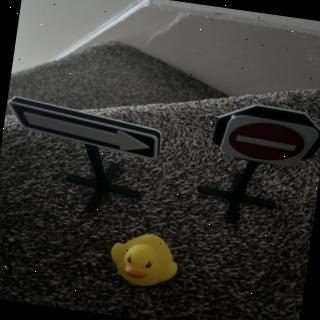duck_regular: (107, 230, 183, 294)
sign_noentry: (210, 100, 320, 173)
sign_oneway_right: (4, 96, 167, 161)
